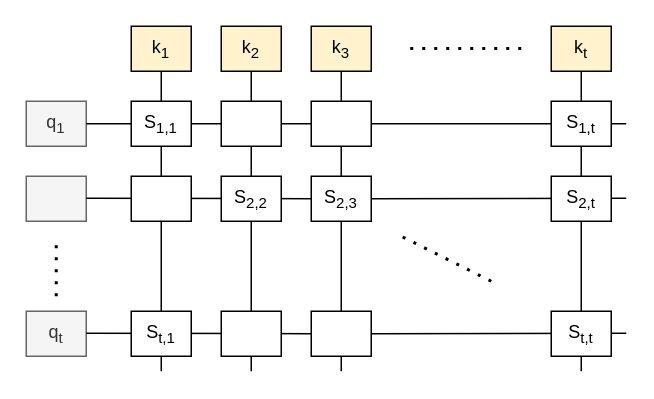
This 654x399 diagram has some shape labels left out. Here are the shapes that lost their labels. From the top down, the centre of each, then its label:
the point at 250,123: S 1,2
the point at 340,123: S 1,3
the point at 55,198: q 2
the point at 160,198: S 2,1
the point at 250,333: S t,2
the point at 340,333: S t,3
